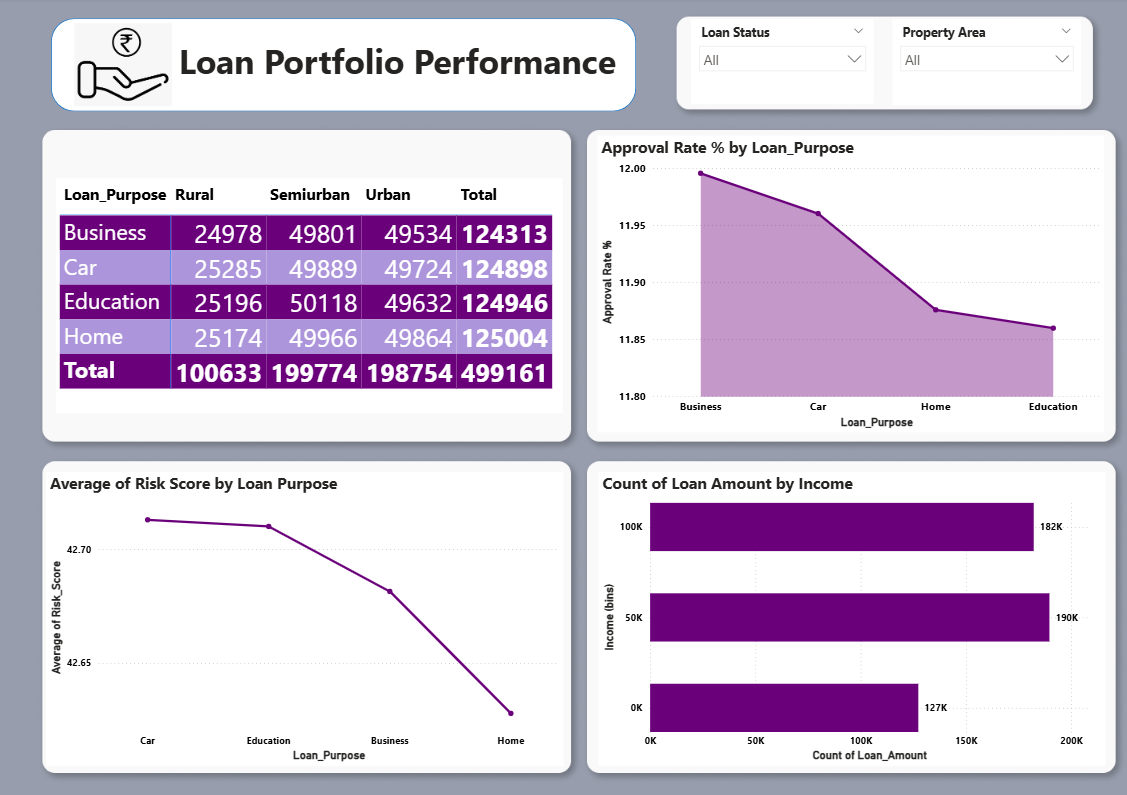

This screenshot's page, from the dashboard's own definition file:
{"tool":"powerbi","page":{"name":"Loan Portfolio Performance","canvas":[1440,1024],"ordinal":3},"visuals":[{"type":"pivotTable","fields":{"Columns":["loan_analysis loan_dataset.Property_Area"],"Rows":["loan_analysis loan_dataset.Loan_Purpose"],"Values":["CountNonNull(loan_analysis loan_dataset.Applicant_ID)"]},"box":[76.3,230.5,644.4,298.7],"z":2},{"type":"areaChart","fields":{"Category":["loan_analysis loan_dataset.Loan_Purpose"],"Y":["loan_analysis loan_dataset.Approval Rate %"]},"box":[764.5,176.9,644.4,376.6],"z":3},{"type":"lineChart","title":"Average of Risk Score by Loan Purpose","fields":{"Category":["loan_analysis loan_dataset.Loan_Purpose"],"Y":["Avg(loan_analysis loan_dataset.Risk_Score)"]},"box":[63.3,603.8,657.4,373.3],"z":4},{"type":"barChart","title":"Count of Loan Amount by Income ","fields":{"Category":["loan_analysis loan_dataset.Income (bins)"],"Y":["CountNonNull(loan_analysis loan_dataset.Loan_Amount)"]},"box":[766.1,603.8,644.4,373.3],"z":5},{"type":"slicer","fields":{"Values":["loan_analysis loan_dataset.Loan_Status"]},"box":[883,29.2,232.1,107.1],"z":6},{"type":"slicer","fields":{"Values":["loan_analysis loan_dataset.Property_Area"]},"box":[1139.4,29.2,240.2,108.7],"z":7},{"type":"shape","box":[69.8,27.6,743.4,118.5],"z":8},{"type":"image","box":[76.3,34.1,170.4,105.5],"z":9},{"type":"textbox","box":[227.2,45.4,566.5,86],"z":10}]}

Visuals, with their boxes in screenshot pixels (x1, y1, x2, y2), scaled from the page's 1440x1024 canvas onto the 1127x795 screenshot:
pivotTable - loan_analysis loan_dataset.Property_Area x loan_analysis loan_dataset.Loan_Purpose: <box>60,179,564,411</box>
areaChart - loan_analysis loan_dataset.Loan_Purpose x loan_analysis loan_dataset.Approval Rate %: <box>598,137,1103,430</box>
"Average of Risk Score by Loan Purpose" lineChart: <box>50,469,564,759</box>
"Count of Loan Amount by Income " barChart: <box>600,469,1104,759</box>
slicer - loan_analysis loan_dataset.Loan_Status: <box>691,23,873,106</box>
slicer - loan_analysis loan_dataset.Property_Area: <box>892,23,1080,107</box>
shape: <box>55,21,636,113</box>
image: <box>60,26,193,108</box>
textbox: <box>178,35,621,102</box>
